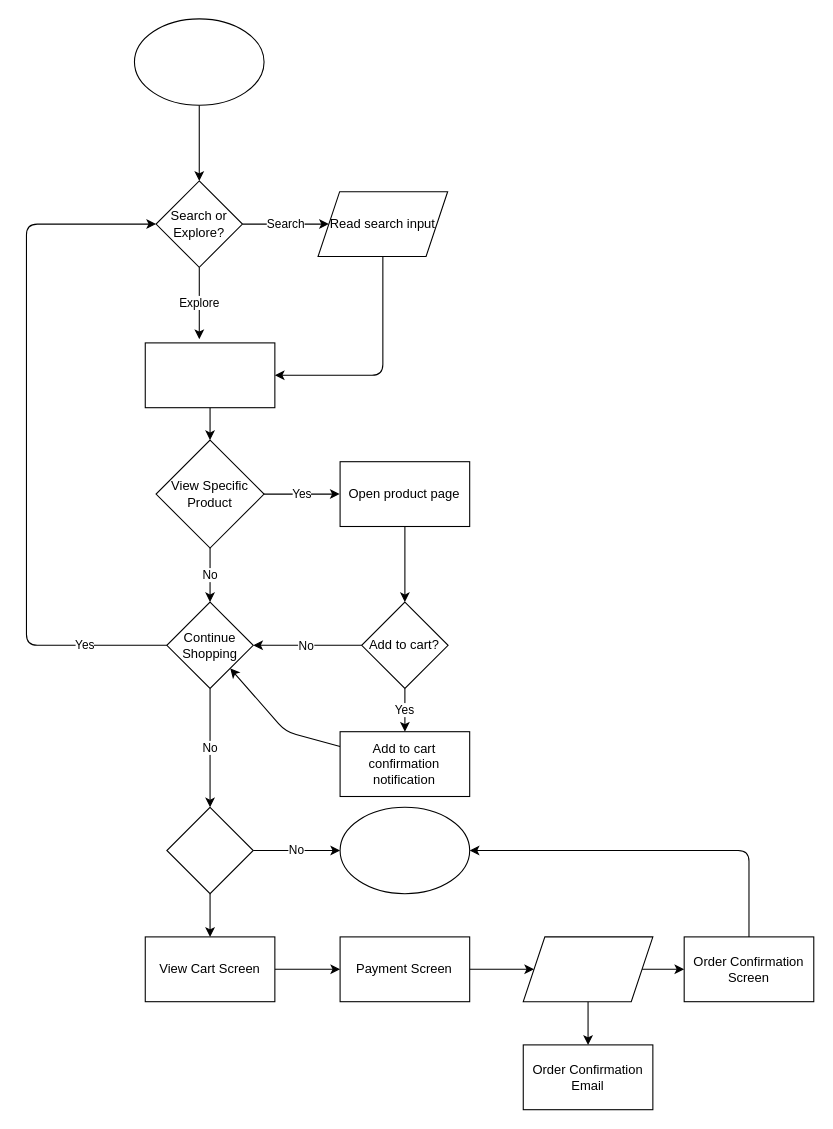
This 833x1129 diagram has some shape labels left out. The centre of each missing label's shape, as x and y in pixels:
"Checkout?" goes at point (209, 850).
"Enter Website" goes at point (198, 61).
"Leave Site" goes at point (404, 850).
"Look over products" goes at point (209, 375).
"Read Payment Details" goes at point (587, 969).
